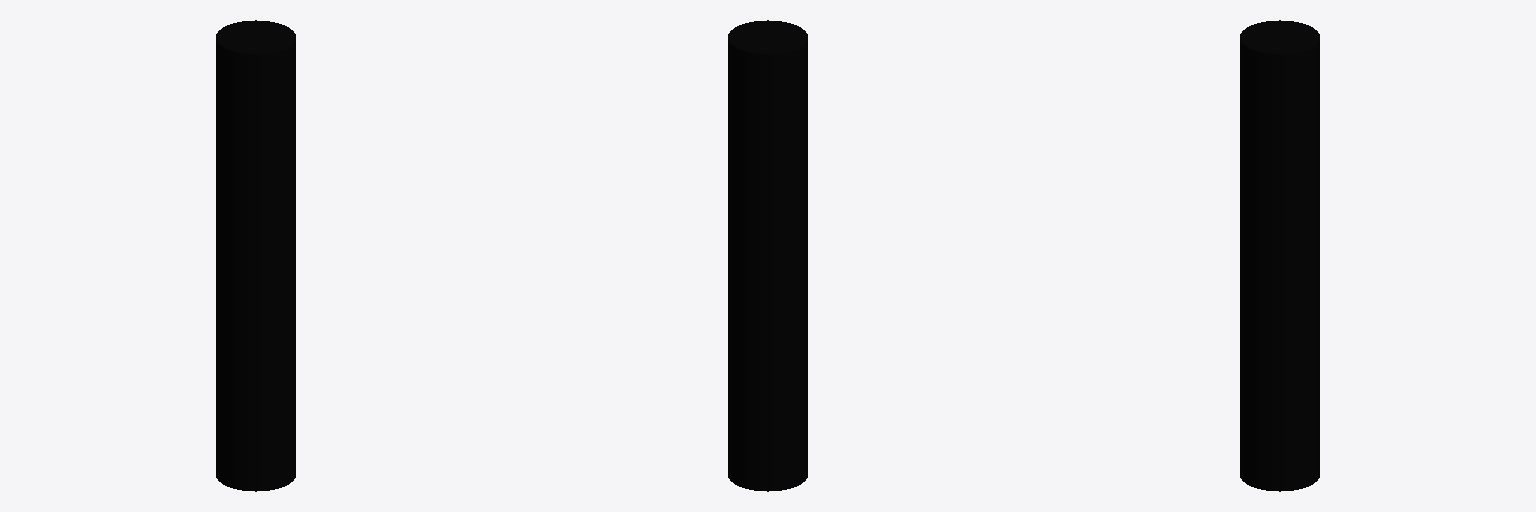
robot.urdf — luxtac_peg_insert:
<?xml version="1.0"?>
<!-- peg, 90mm long, for insertion teleop.
     Generated by scripts/make_luxtac_objs.py. Metres, centred on x,y, cross-section
     centre at z = 0.0452 (the pad centre once staged). Long axis at 0 deg in
     the x-z plane: 0 = along the finger, 90 = across it. Length 90mm,
     mass 1.500000 kg.

     The link is named 'cube' because TacSL resolves the indenter link by name. -->
<robot name="luxtac_peg_insert">
    <link name="cube">
        <visual>
            <geometry><mesh filename="../mesh/luxtac_peg_insert.obj"/></geometry>
            <material name="black"><color rgba="0.05 0.05 0.05 1"/></material>
        </visual>
        <collision>
            <geometry><mesh filename="../mesh/luxtac_peg_insert.obj"/></geometry>
            <sdf resolution="256"/>  <!-- 0.352mm voxels -->
        </collision>
        <inertial>
            <origin rpy="0 0 0" xyz="0 0 0.0452"/>
            <mass value="1.500000"/>
            <inertia ixx="1.033579e-03" ixy="0" ixz="0" iyy="1.033579e-03" iyz="0" izz="4.215739e-05"/>
        </inertial>
    </link>
</robot>

--- Render facts (derived) ---
The picture shows the robot from 3 angles, left to right: view 1: azimuth 30°, elevation 25°; view 2: azimuth 150°, elevation 25°; view 3: azimuth 270°, elevation 25°; orthographic projection.
Robot: luxtac_peg_insert — 1 links, 0 joints (none); root link cube; default pose: every joint at zero.
Links seen in each view (by area): view 1: cube; view 2: cube; view 3: cube.
Boxes of the visible links, bbox=[...] form: cube: bbox=[216, 20, 295, 491]; cube: bbox=[728, 20, 807, 491]; cube: bbox=[1240, 20, 1319, 491].
Bounding box of the posed robot: 0.015 × 0.015 × 0.09 m (x, y, z).
1 mesh visuals loaded from 1 distinct referenced files (1 OBJ).
